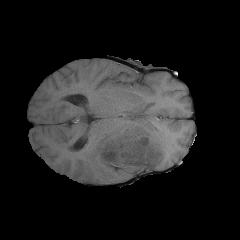glioma: (63, 118, 175, 182)
